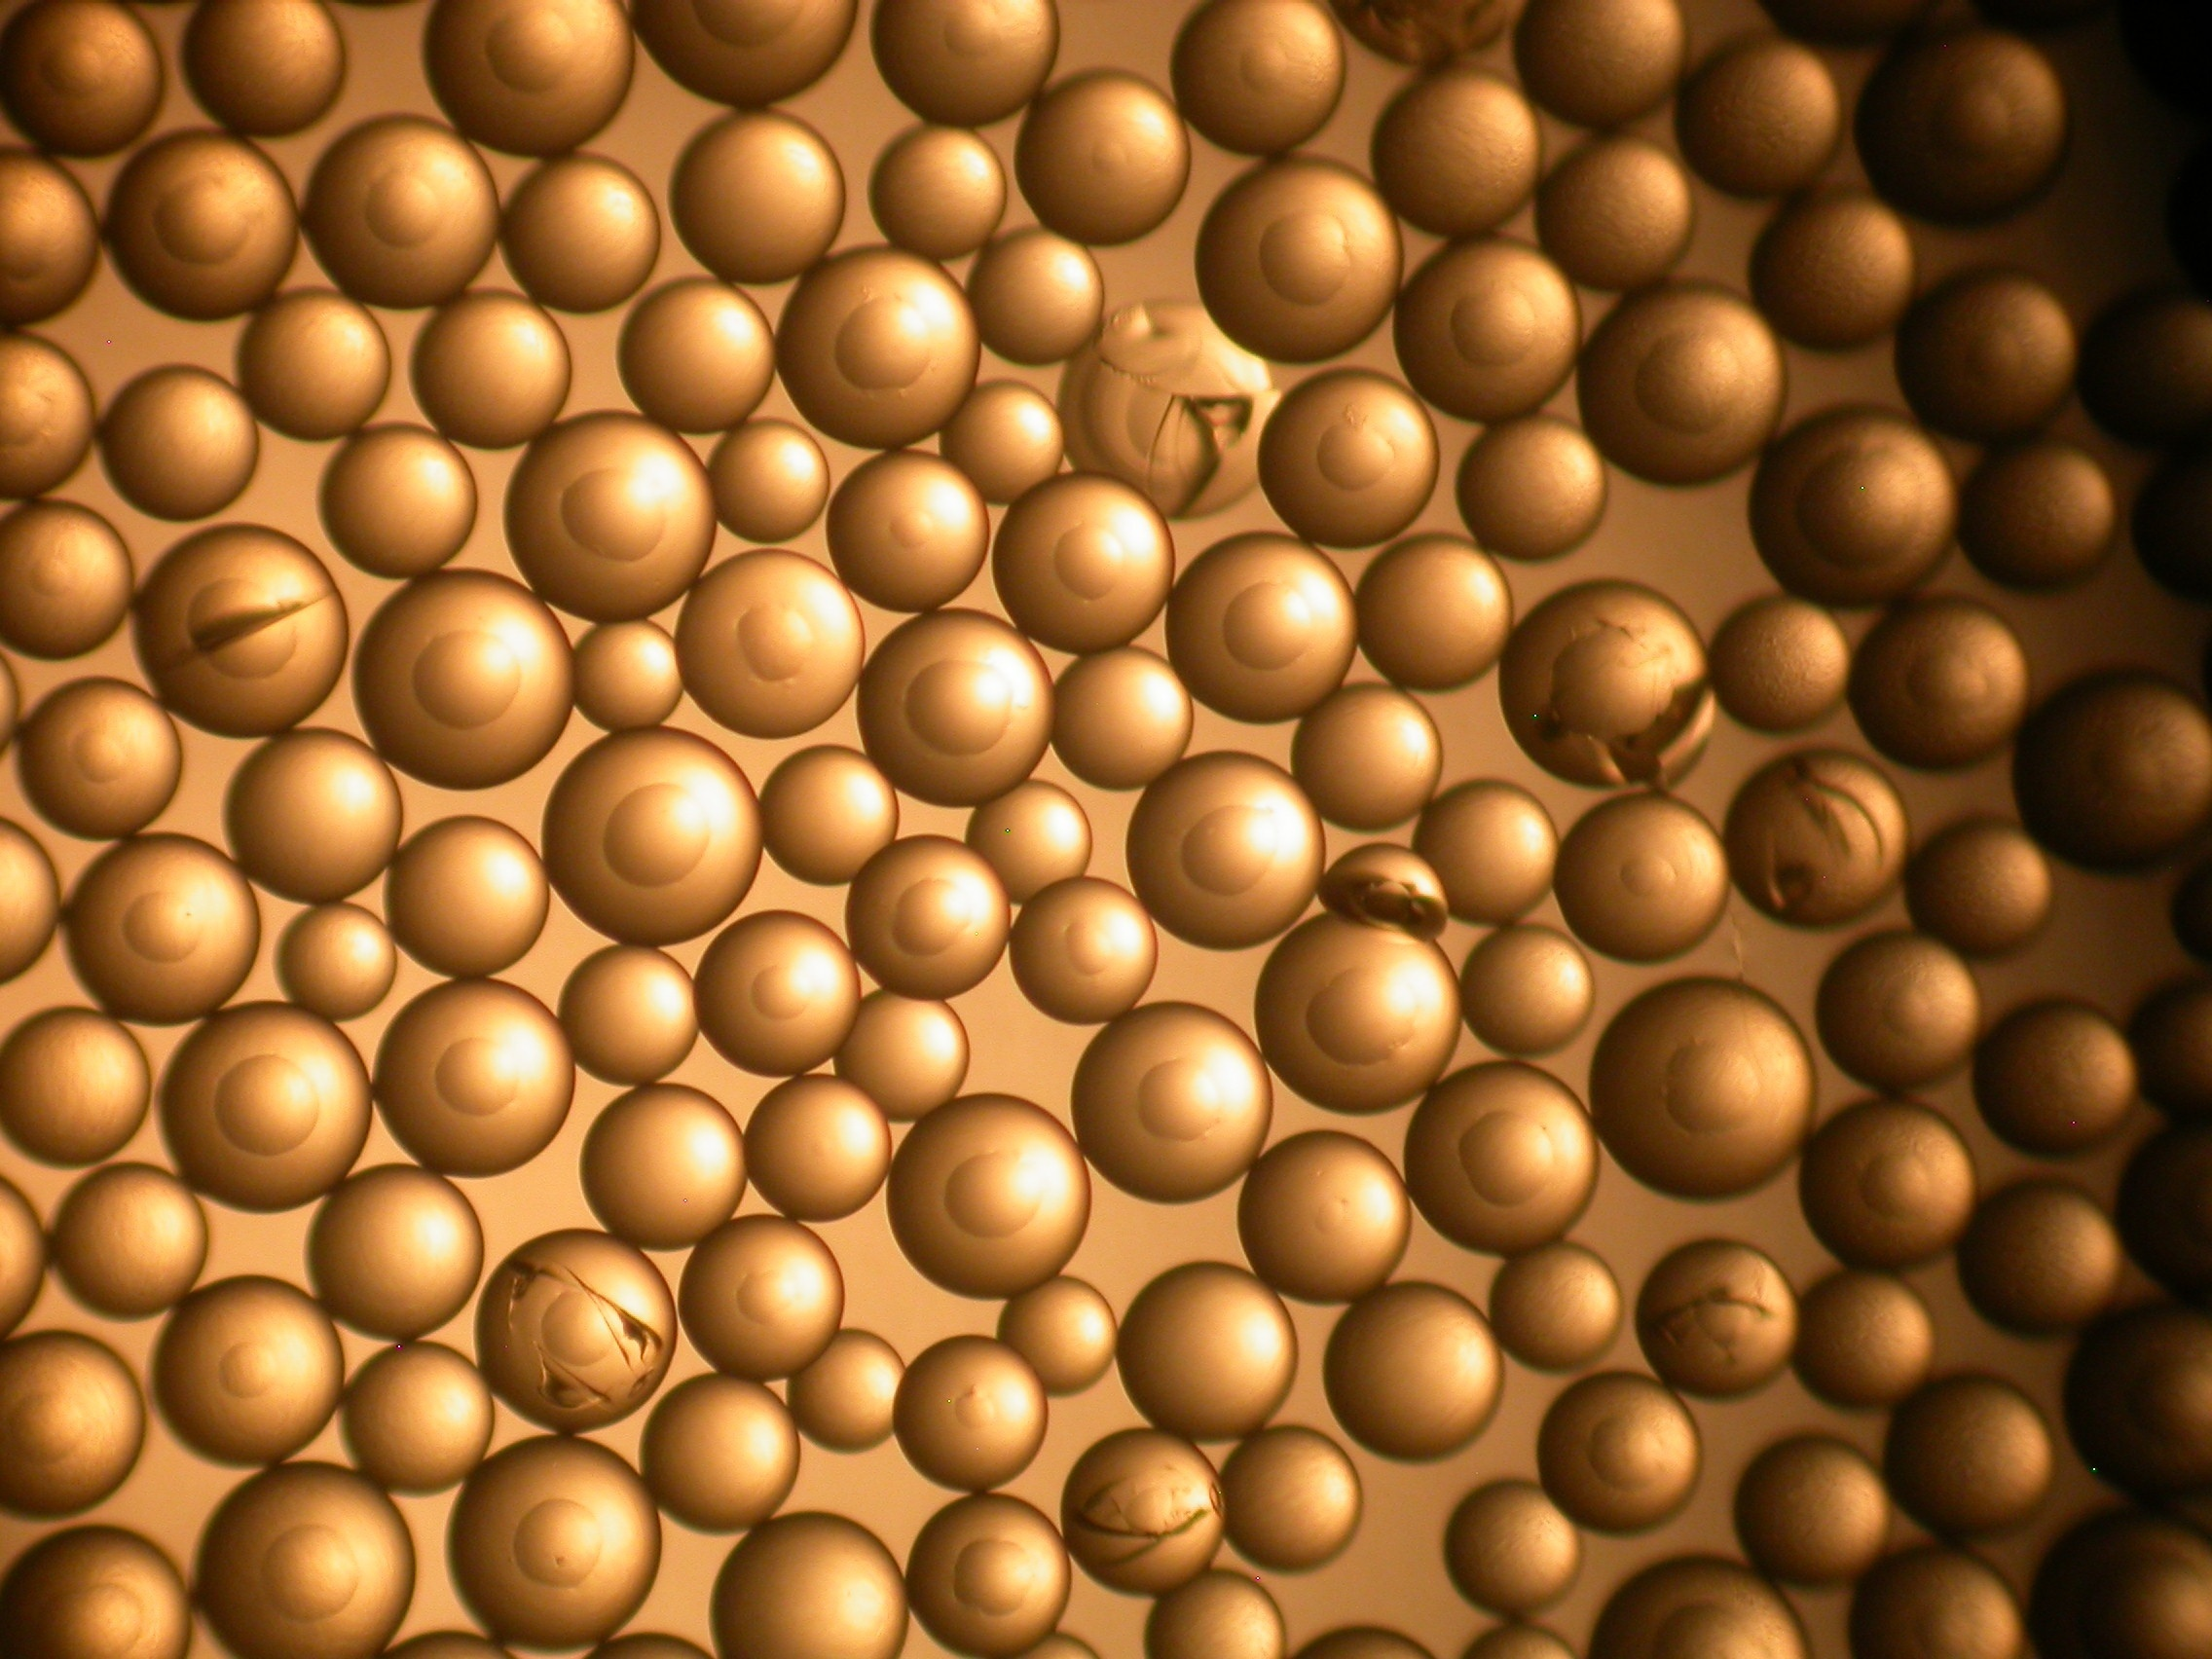destroyed_resin: (1055, 289, 1285, 518), (132, 519, 350, 741), (1498, 579, 1721, 791), (474, 1229, 678, 1432), (1726, 748, 1912, 925), (1061, 1429, 1226, 1596), (1635, 1241, 1801, 1398), (1317, 842, 1451, 939)
full_resin: (1588, 976, 1820, 1199), (350, 570, 578, 791), (542, 727, 758, 950), (444, 1436, 662, 1647), (160, 1000, 371, 1215), (503, 411, 718, 620), (885, 1091, 1094, 1300), (1254, 911, 1467, 1117), (197, 1462, 418, 1659), (1193, 157, 1404, 361), (777, 246, 984, 450), (1580, 282, 1789, 484), (2010, 666, 2212, 873), (1749, 404, 1959, 603), (1071, 1000, 1273, 1206), (373, 978, 577, 1178), (1857, 26, 2067, 220), (1127, 749, 1325, 953), (301, 113, 502, 312), (1404, 1060, 1604, 1256), (855, 608, 1052, 809), (103, 129, 301, 326), (64, 833, 261, 1028), (1165, 533, 1360, 728), (672, 551, 869, 741), (153, 1274, 345, 1467), (1395, 237, 1583, 420), (1116, 1258, 1299, 1439), (1256, 368, 1442, 544), (1324, 1281, 1508, 1457), (993, 476, 1177, 652), (420, 2, 634, 153), (226, 725, 404, 906), (1853, 592, 2031, 774), (308, 1162, 486, 1342), (1897, 268, 2078, 443), (1237, 1129, 1413, 1305), (1017, 70, 1191, 247), (1801, 1098, 1975, 1274), (1371, 64, 1547, 239), (707, 1511, 913, 1659), (671, 110, 846, 282), (2066, 1300, 2212, 1507), (1554, 793, 1730, 964), (1885, 1373, 2060, 1539), (695, 908, 864, 1079), (577, 1086, 751, 1251), (2, 1326, 146, 1523), (17, 674, 185, 843), (383, 816, 552, 981), (906, 1492, 1075, 1657), (1536, 1370, 1705, 1535), (1970, 997, 2139, 1162), (1749, 188, 1918, 354), (676, 1213, 846, 1377), (2029, 1507, 2212, 1657), (1817, 931, 1980, 1098), (1170, 2, 1348, 155), (846, 833, 1010, 999), (1959, 1176, 2127, 1338), (500, 152, 664, 315), (829, 450, 991, 612), (413, 288, 573, 450), (1679, 38, 1839, 200), (1731, 1432, 1895, 1591), (1533, 134, 1698, 291), (641, 1373, 801, 1534), (2, 2, 165, 159), (2, 1527, 193, 1659), (1959, 441, 2125, 594), (1355, 533, 1514, 692), (319, 422, 479, 579), (99, 364, 261, 519), (618, 277, 775, 436), (51, 1162, 209, 1319), (1583, 1553, 1817, 1659), (2, 1002, 152, 1168), (894, 1333, 1050, 1490), (866, 2, 1061, 125), (237, 288, 392, 443), (629, 2, 859, 106), (1456, 411, 1609, 565), (1292, 681, 1447, 833), (742, 1073, 894, 1227), (343, 1342, 493, 1497), (1512, 2, 1689, 131), (178, 2, 348, 136), (1010, 877, 1160, 1026), (1414, 777, 1562, 927), (1844, 1542, 2033, 1659), (1221, 1422, 1366, 1572), (2, 500, 132, 662), (758, 744, 902, 890), (1050, 647, 1195, 791), (559, 943, 700, 1089), (1907, 819, 2055, 958), (1797, 1270, 1935, 1417), (2087, 281, 2212, 441), (1712, 594, 1851, 735), (1442, 1481, 1583, 1615), (967, 230, 1108, 364), (869, 125, 1007, 261), (1458, 922, 1595, 1056), (2, 146, 99, 328), (1489, 1243, 1623, 1371), (840, 988, 972, 1117), (2, 328, 96, 504), (789, 1330, 909, 1464), (998, 1272, 1123, 1399), (707, 418, 831, 544), (273, 901, 401, 1023), (941, 380, 1064, 502), (963, 782, 1092, 894), (571, 615, 683, 735), (1143, 1568, 1289, 1659)
